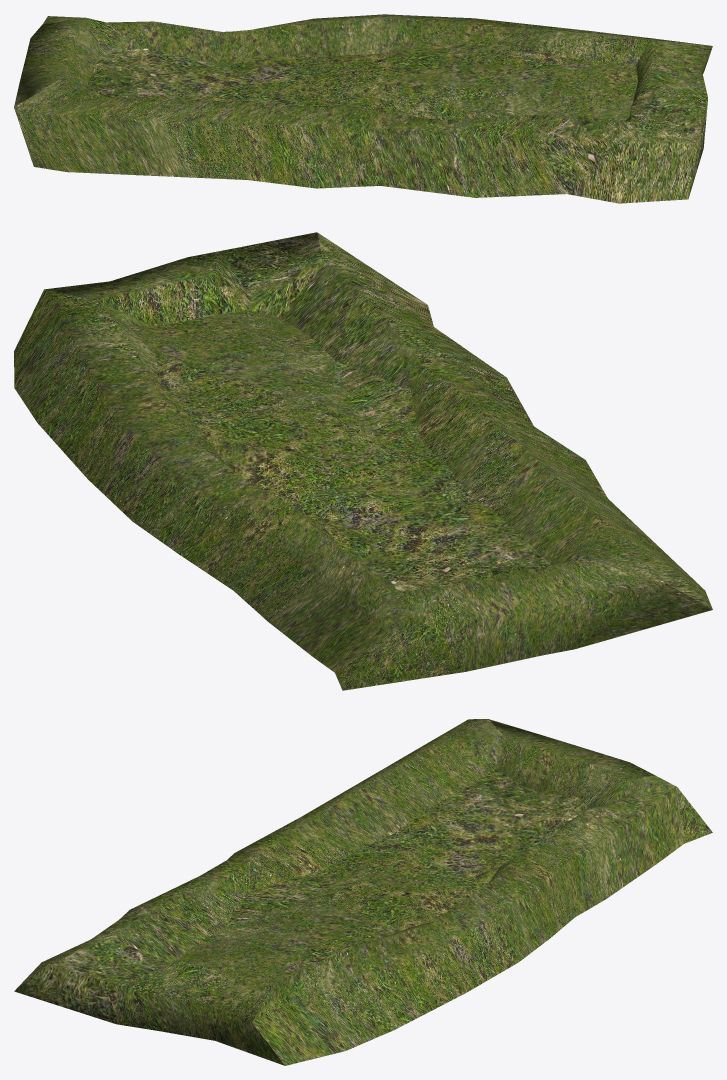
File: GrassDip.fbx
The picture shows the model from 3 angles, top to bottom: view 1: azimuth 30°, elevation 25°; view 2: azimuth 150°, elevation 25°; view 3: azimuth 270°, elevation 25°; orthographic projection. The views are drawn at different scales.
Visible parts, largest first — view 1: GrassDip; view 2: GrassDip; view 3: GrassDip.
Part boxes in pixels (left/top/right/bottom): GrassDip: left=14, top=14, right=712, bottom=203; GrassDip: left=14, top=232, right=712, bottom=690; GrassDip: left=14, top=719, right=712, bottom=1065.
Size of the model in its own units: 44.39 by 4.22 by 42.19.
